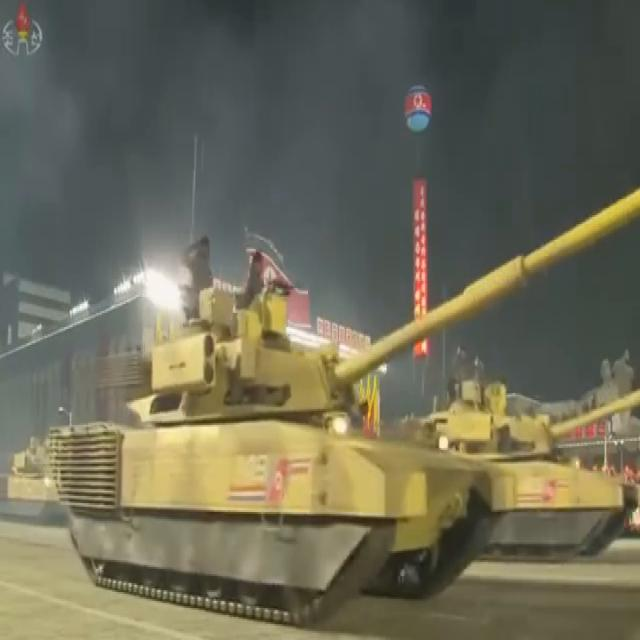north tank: (42, 176, 640, 640), (393, 363, 640, 640)
